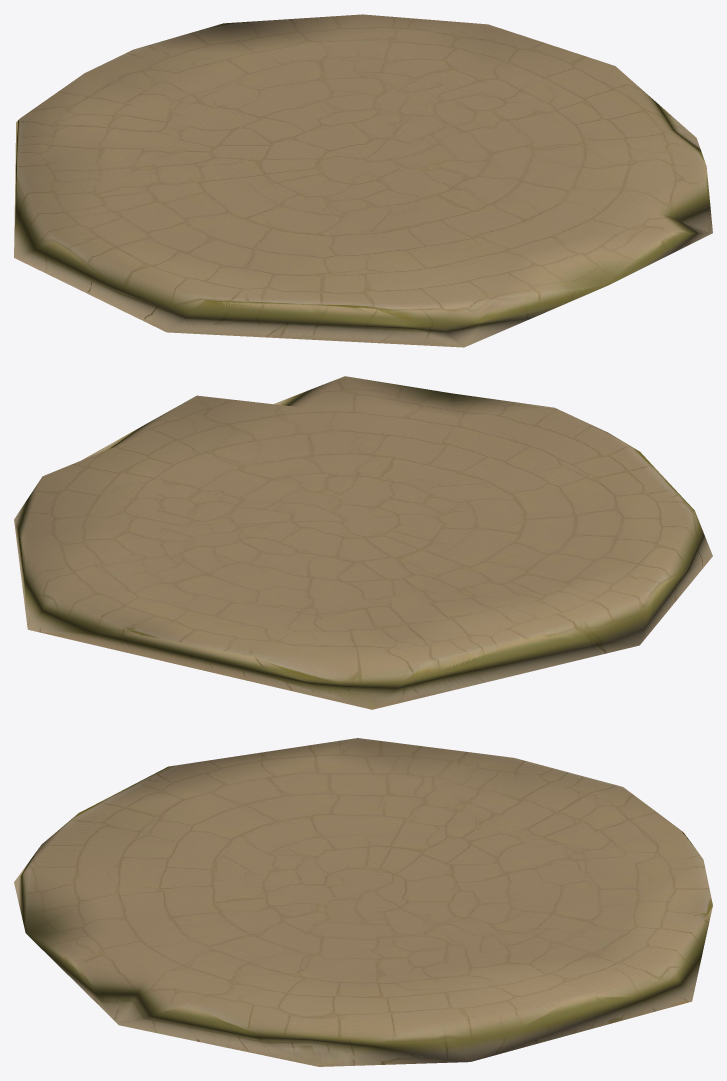
Rendered from suelo.fbx.
3 renders of one model, top to bottom at view 1: azimuth 30°, elevation 25°; view 2: azimuth 150°, elevation 25°; view 3: azimuth 270°, elevation 25°, orthographic. The views are drawn at different scales.
Visible parts, largest first — view 1: tripo_node_8b4ffe48; view 2: tripo_node_8b4ffe48; view 3: tripo_node_8b4ffe48.
Boxes of the visible parts, x1=… form: tripo_node_8b4ffe48: x1=14, y1=14, x2=712, y2=347; tripo_node_8b4ffe48: x1=14, y1=376, x2=712, y2=709; tripo_node_8b4ffe48: x1=14, y1=738, x2=712, y2=1066.
Size of the model in its own units: 0.9839 by 0.0538 by 0.9616.
Materials: 1 (1 with a texture image).
